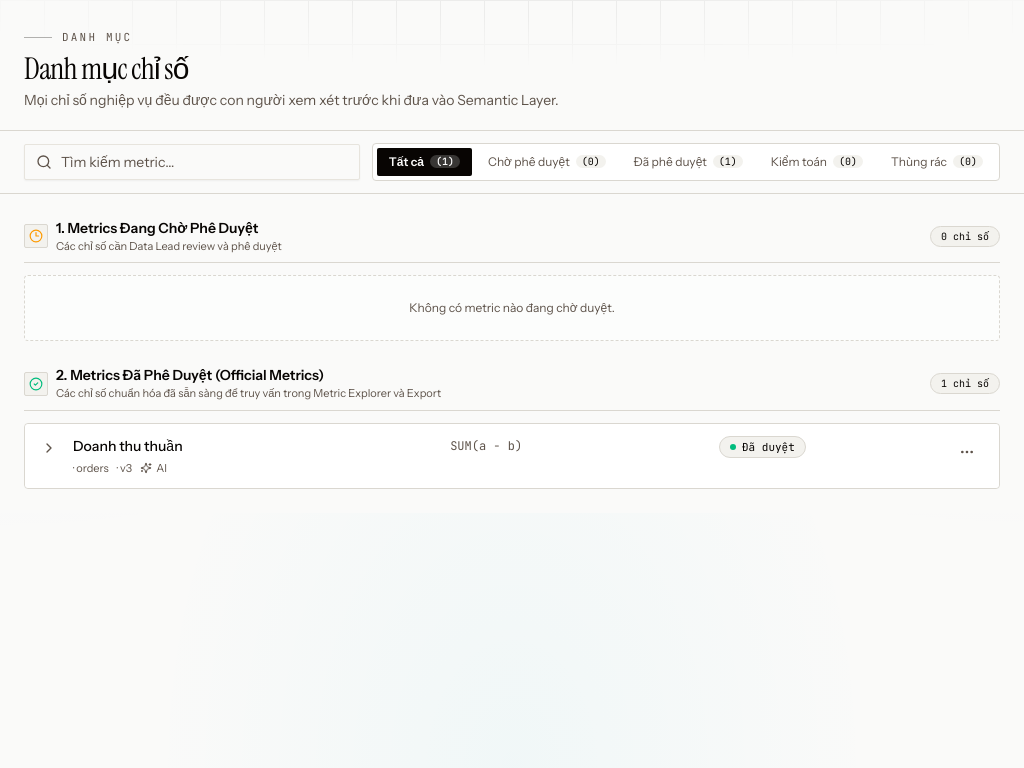
Scenario: MetricsCatalogView history modal › confirms destructively, refetches history, notifies parent, and resets selectors
Click the heading named "Thao tác với" at [967, 452], box [959,444,975,460]
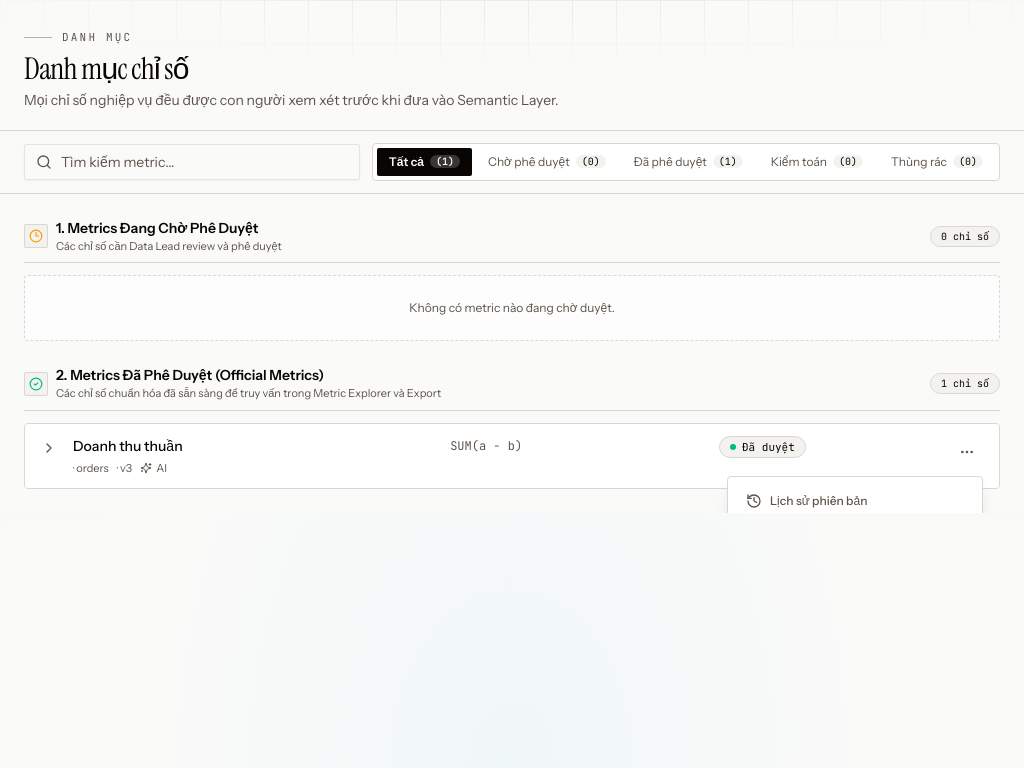
Click the button titled "Xem lịch sử phiên bản" at [855, 501], box [736,485,974,517]
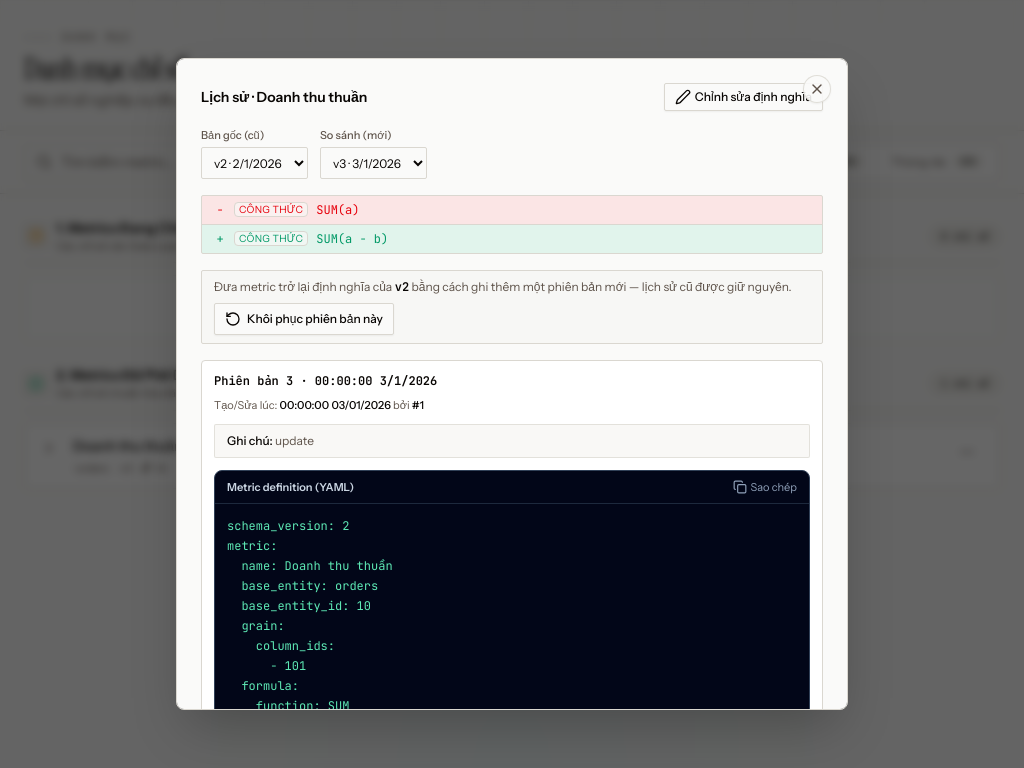
Now the dialog is shown, box [176,58,848,710]
Click the button "Khôi phục phiên bản này" at [304, 319], box [214,303,394,335]
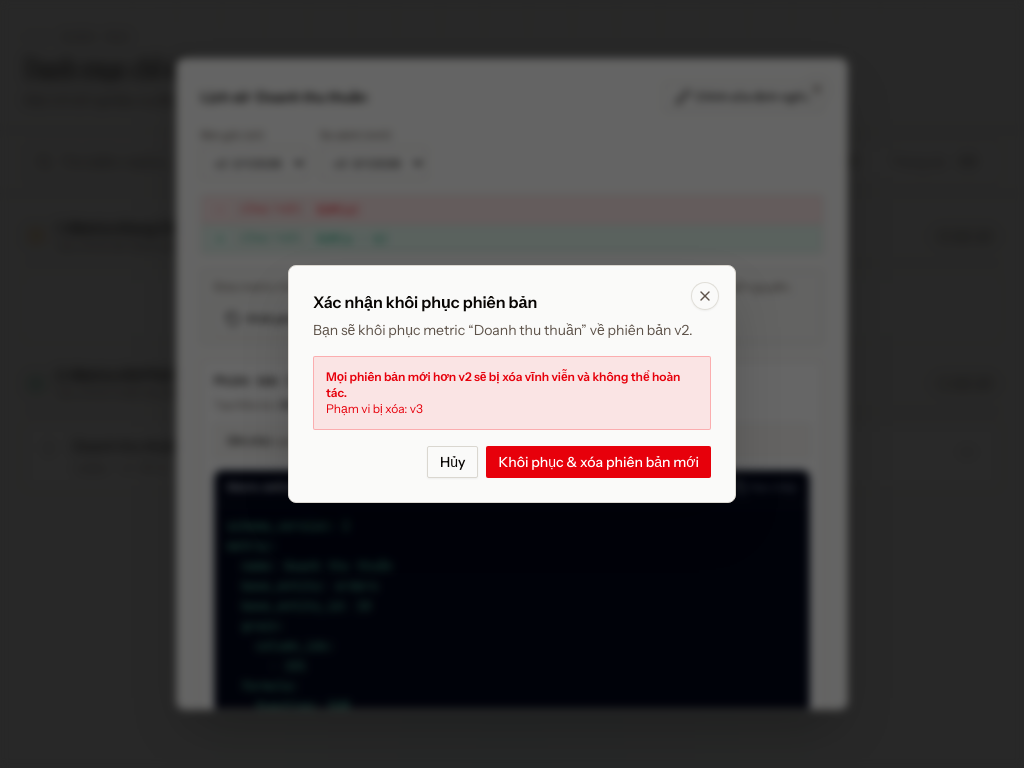
Now the text "xóa vĩnh viễn" is shown, box [326,369,680,400]
Click the button "Khôi phục & xóa phiên bản mới" at [599, 462], box [486,446,711,478]
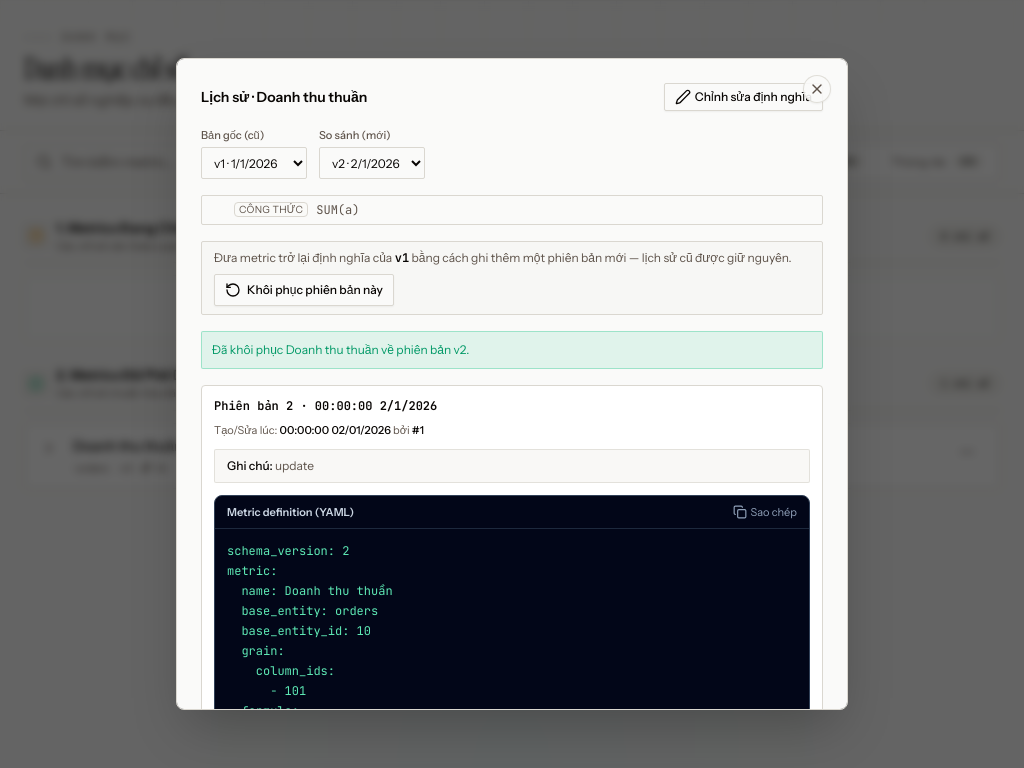
Now the text "Đã khôi phục Doanh thu thuần về phiên bản v2." is shown, box [201,331,823,369]
Now the button "Khôi phục & xóa phiên bản mới" is gone
Now the dropdown labelled "Bản gốc (cũ)" shows "v1 · 1/1/2026", box [201,147,307,179]
